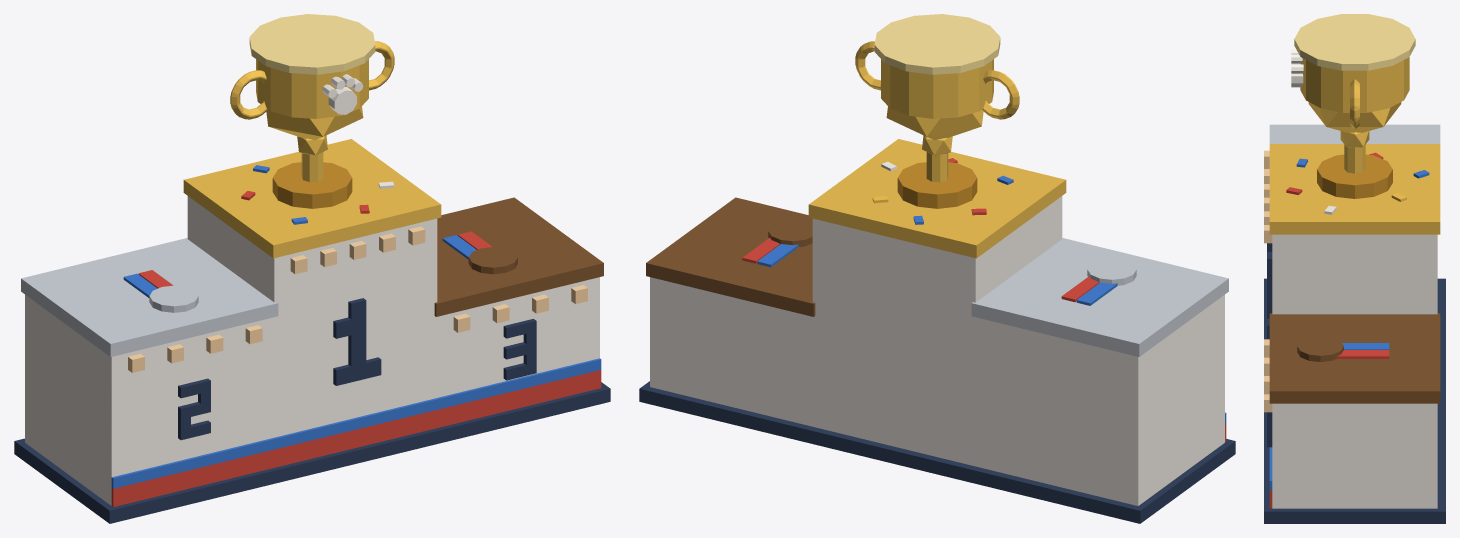
File: CatCafe_Decor_VictoryPodium.fbx
3 views of the same model, side by side, from view 1: azimuth 30°, elevation 25°; view 2: azimuth 150°, elevation 25°; view 3: azimuth 270°, elevation 25° (orthographic). The views are drawn at different scales.
Parts seen in each view (by area): view 1: CatCafe_Decor_VictoryPodium, CatCafe_Decor_VictoryPodium_Trophy_Spin, CatCafe_Decor_VictoryPodium_Glow; view 2: CatCafe_Decor_VictoryPodium, CatCafe_Decor_VictoryPodium_Trophy_Spin; view 3: CatCafe_Decor_VictoryPodium, CatCafe_Decor_VictoryPodium_Trophy_Spin, CatCafe_Decor_VictoryPodium_Glow.
Boxes of the visible parts, bbox=[...] form: CatCafe_Decor_VictoryPodium: bbox=[14, 139, 610, 523]; CatCafe_Decor_VictoryPodium_Trophy_Spin: bbox=[230, 14, 394, 208]; CatCafe_Decor_VictoryPodium_Glow: bbox=[128, 226, 587, 372]; CatCafe_Decor_VictoryPodium: bbox=[639, 139, 1235, 523]; CatCafe_Decor_VictoryPodium_Trophy_Spin: bbox=[855, 14, 1019, 208]; CatCafe_Decor_VictoryPodium: bbox=[1264, 124, 1445, 523]; CatCafe_Decor_VictoryPodium_Trophy_Spin: bbox=[1291, 14, 1415, 198]; CatCafe_Decor_VictoryPodium_Glow: bbox=[1264, 150, 1272, 412].
Size of the model in its own units: 4 by 2.96 by 1.32.
Materials: 1 (1 with a texture image).
